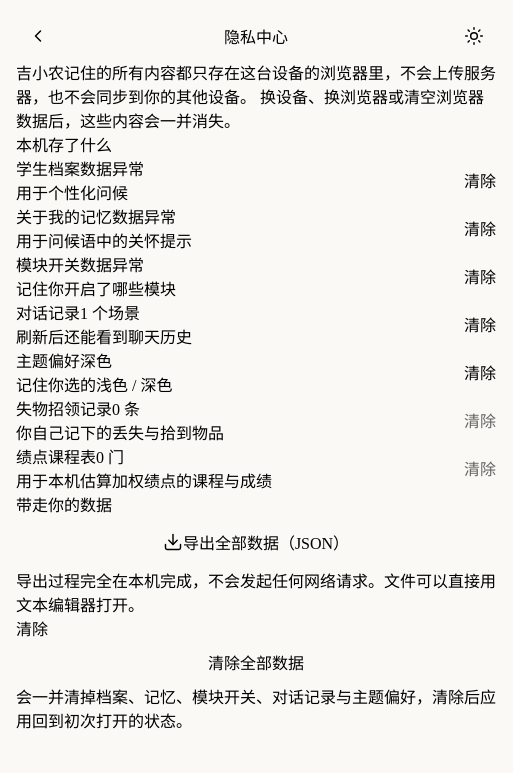
Test case: PrivacyPage —— 全部清除 › 【AC】清除后页面不白屏：清单仍渲染、按钮变禁用、有提示文案
Click the button "清除全部数据": (256, 662) [16, 640, 496, 684]
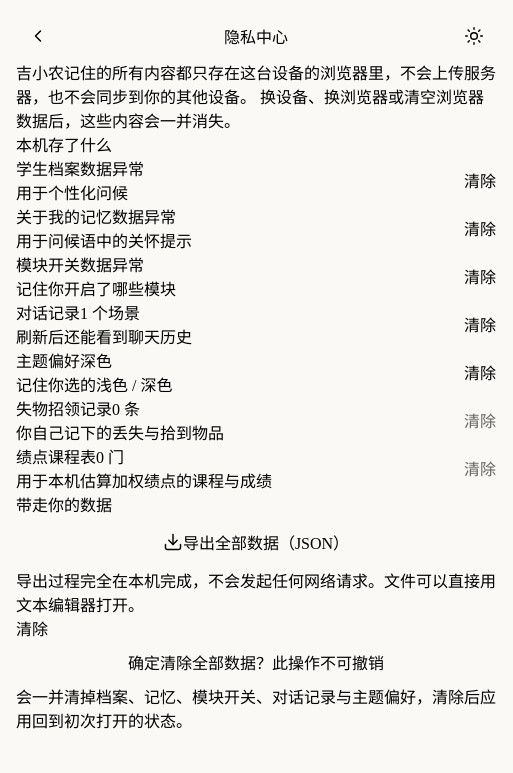
Click the button "确定清除全部数据？此操作不可撤销": (256, 662) [16, 640, 496, 684]
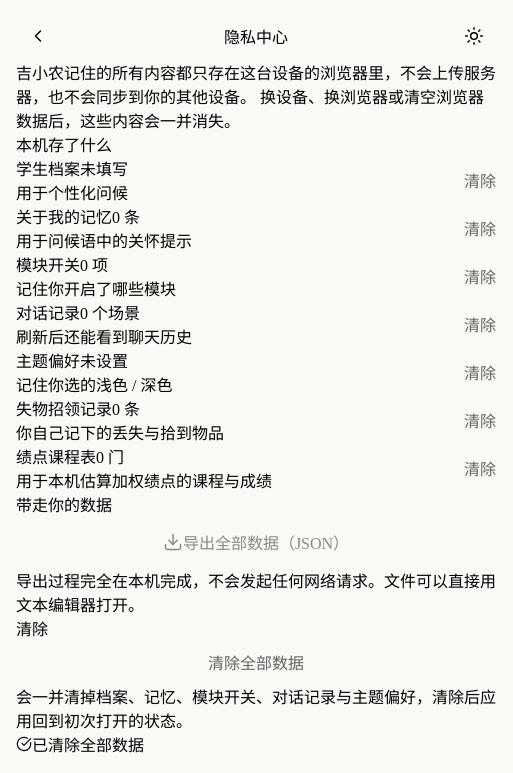
Result: the button "导出全部数据（JSON）" is disabled at [16, 516, 496, 568]
Result: the button "清除全部数据" is disabled at [16, 640, 496, 684]
Result: the text "已清除全部数据" is shown at [32, 732, 144, 756]
